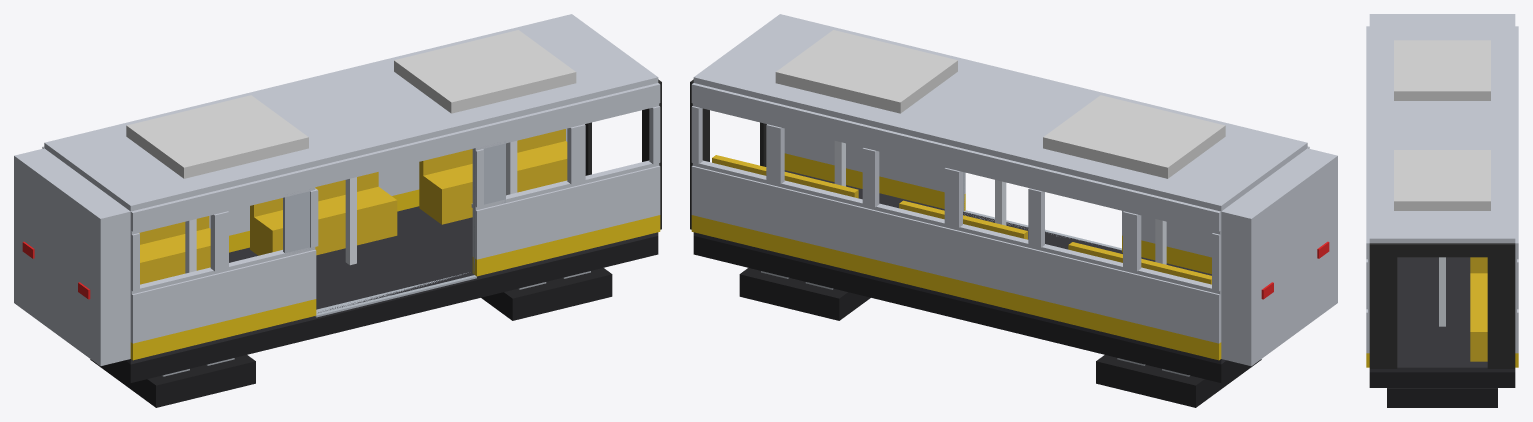
Rendered from metro_wagon_rear_l4.obj.
3 views of the same model, side by side, from view 1: azimuth 30°, elevation 25°; view 2: azimuth 150°, elevation 25°; view 3: azimuth 270°, elevation 25° (orthographic). The views are drawn at different scales.
Bounding box in the file's own units: 3.16 × 1.26 × 0.88.
